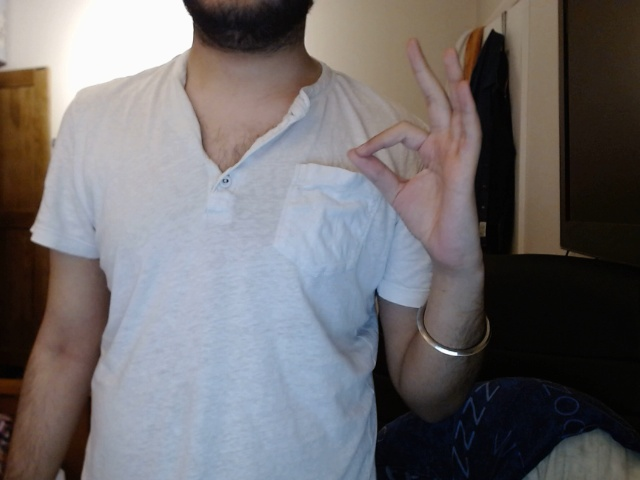Okay: (344, 29, 493, 275)
